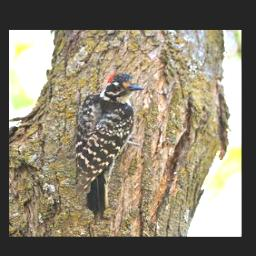Woodpecker: (79, 70, 143, 222)
